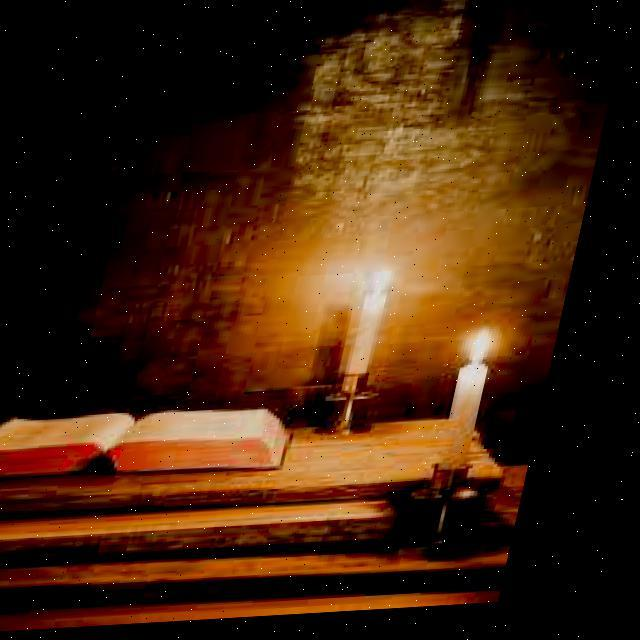Fire: (476, 329, 521, 370), (366, 268, 414, 302)
